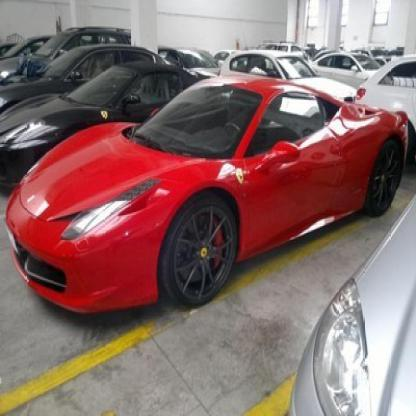Vehicle: (4, 78, 411, 317)
